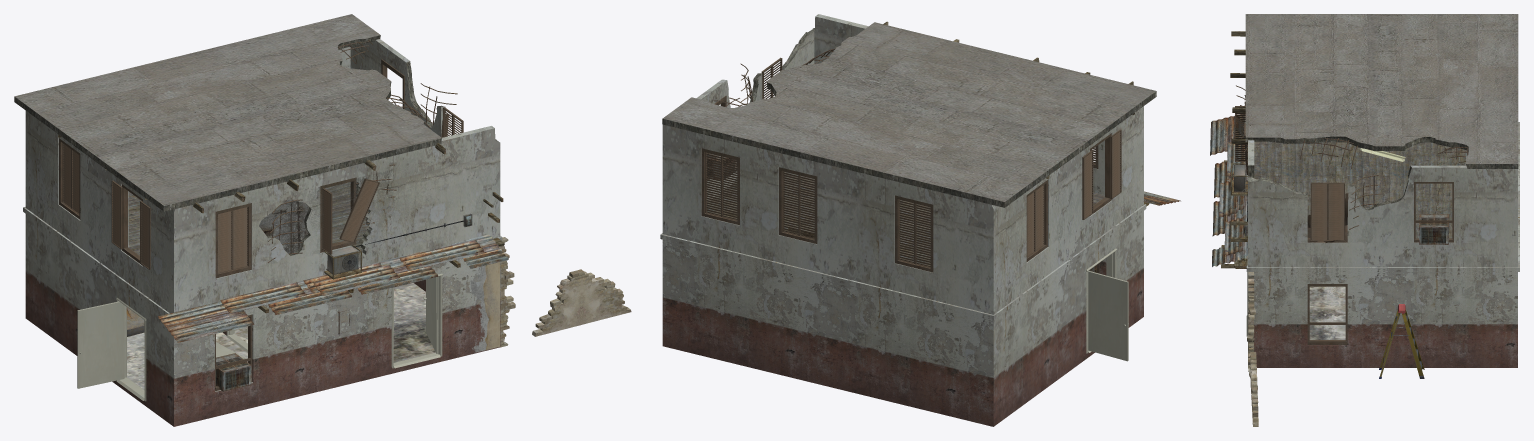
Rendered from urban_building.glb.
3 views of the same model, side by side, from view 1: azimuth 30°, elevation 25°; view 2: azimuth 150°, elevation 25°; view 3: azimuth 270°, elevation 25° (orthographic). The views are drawn at different scales.
Parts seen in each view (by area): view 1: roof, outsidewall2, outsidewall, metalroof, firstfloor, door3, Boole, frame, insidewall2, dical2, brockenbricks, floor (+18 smaller); view 2: outsidewall, roof, outsidewall2, frame, insidewall2, Boole, door3, Cube_8, floor, Cube, Cube_2, Cube_3 (+8 smaller); view 3: roof, outsidewall, outsidewall2, floor, metalroof, Boole, firstfloor, Cube_8, frame, piece_29, piece_30, woodbrackets (+9 smaller).
Part boxes in pixels (box(x1,y1,x2,y2)): roof: box(14, 14, 441, 205); outsidewall2: box(25, 111, 500, 313); outsidewall: box(25, 214, 500, 426); metalroof: box(158, 234, 508, 342); firstfloor: box(127, 282, 435, 389); door3: box(77, 301, 124, 388); Boole: box(14, 35, 498, 254); frame: box(59, 59, 448, 391); insidewall2: box(58, 39, 494, 278); dical2: box(470, 246, 499, 352); brockenbricks: box(532, 270, 582, 336); floor: box(128, 182, 368, 255); outsidewall: box(662, 211, 1143, 426); roof: box(663, 22, 1155, 201); outsidewall2: box(662, 106, 1143, 314); frame: box(701, 90, 1111, 273); insidewall2: box(696, 14, 1112, 272); Boole: box(662, 28, 1156, 207); door3: box(1088, 271, 1128, 361); Cube_8: box(660, 204, 1146, 320); floor: box(707, 172, 1104, 265); Cube: box(705, 152, 721, 216); Cube_2: box(782, 171, 798, 235); Cube_3: box(898, 199, 914, 263); roof: box(1245, 14, 1518, 163); outsidewall: box(1248, 272, 1517, 367); outsidewall2: box(1248, 167, 1517, 267); floor: box(1254, 141, 1468, 238); metalroof: box(1210, 114, 1247, 266); Boole: box(1245, 136, 1518, 210); firstfloor: box(1309, 286, 1345, 339); Cube_8: box(1246, 122, 1519, 271); frame: box(1307, 182, 1453, 344); piece_29: box(1327, 182, 1344, 240); piece_30: box(1310, 182, 1327, 240); woodbrackets: box(1221, 31, 1247, 268).
Bounding box in the file's own units: 631 × 271 × 372.
Materials: 30 (30 with a texture image).
